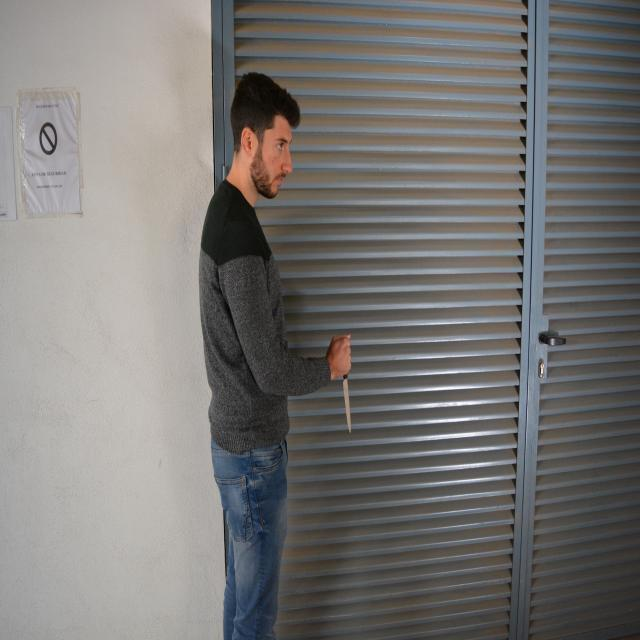-: (335, 351, 358, 439)
